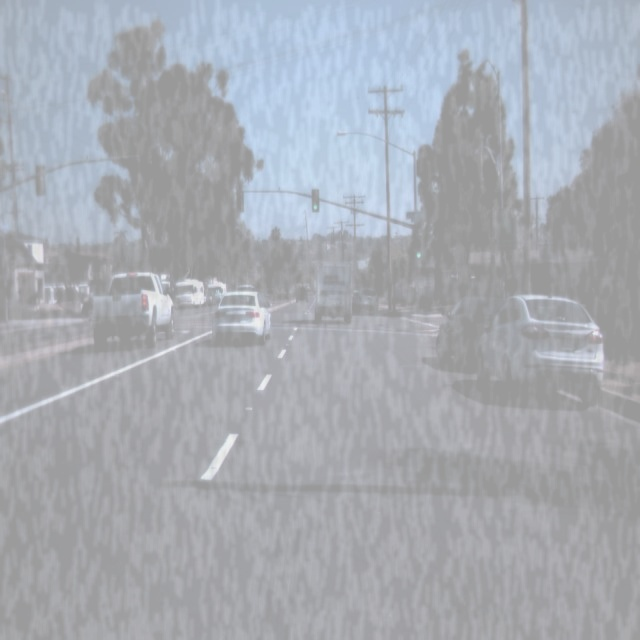go: (311, 194, 319, 211), (415, 245, 423, 259)
go traffic light: (311, 194, 319, 211), (415, 245, 423, 259)
stop left: (234, 192, 244, 213)
stop left traffic light: (234, 192, 244, 213)
